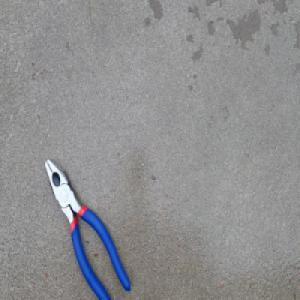Pliers: (45, 157, 133, 300)
